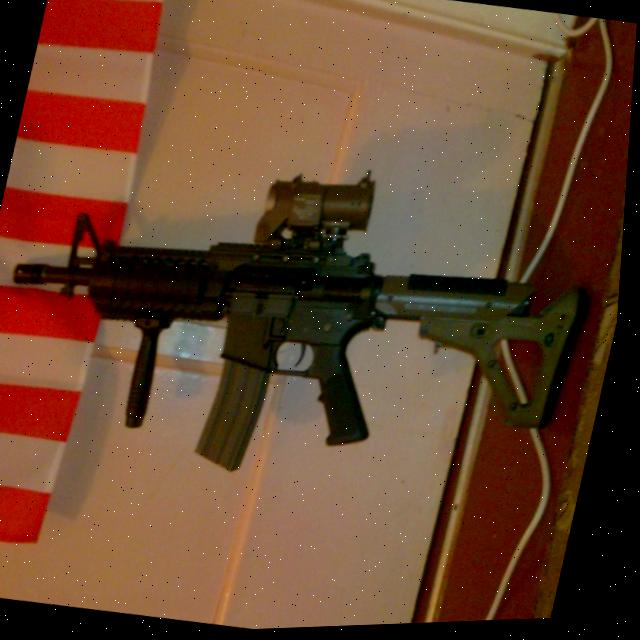firearm: (0, 113, 621, 532)
